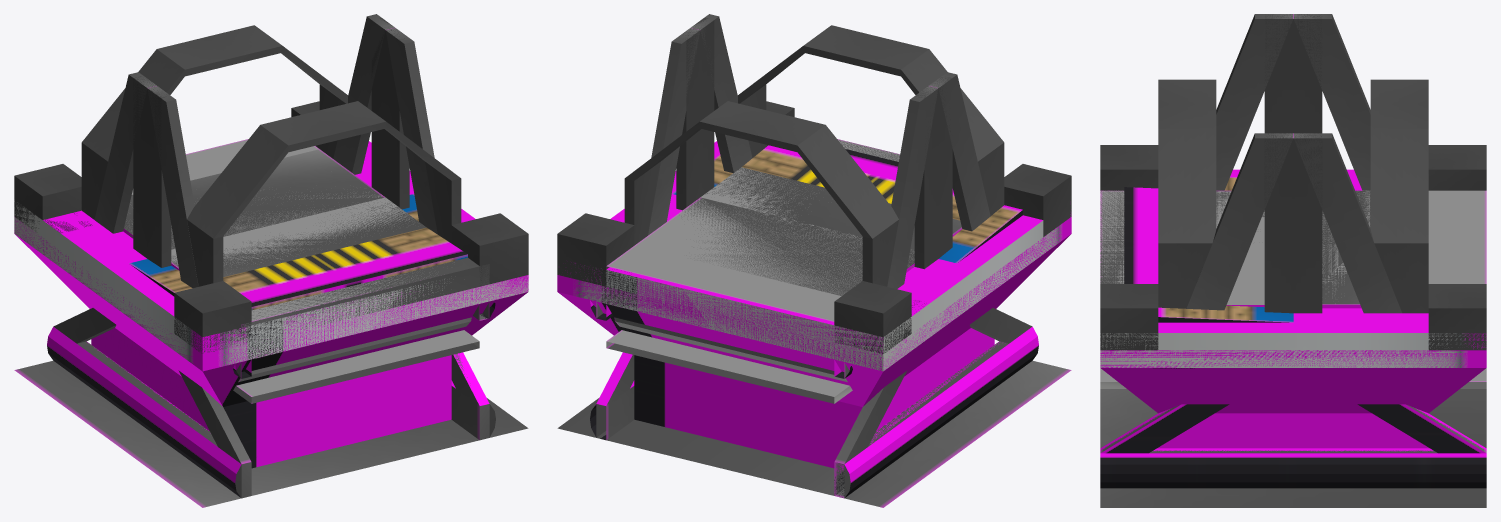
File: conveyor.obj
3 views of the same model, side by side, from view 1: azimuth 30°, elevation 25°; view 2: azimuth 150°, elevation 25°; view 3: azimuth 270°, elevation 25° (orthographic). The views are drawn at different scales.
Visible parts, largest first — view 1: ConveyorProcessingChute_chutemdl, Conveyor_High_Throughput_Framing_Alu_chtpmdl_alu, SieveChute_cscmdl, ConveyorHopperHighSpeed_chmdl_hs, ConveyorSupportAbove_Wood_samdl_wood, Reference_rplane, ConveyorStraightEnd_csmdl, ConveyorSupportAbove_Alu_samdl_alu, Sieve_csvmdl, Support_Alu_smdl_alu, ConveyorRoundBegin_crmdl, ConveyorRoundEnd_crmdl (+5 smaller); view 2: ConveyorProcessingChute_chutemdl, SieveChute_cscmdl, Conveyor_High_Throughput_Framing_Alu_chtpmdl_alu, ConveyorHopperHighSpeed_chmdl_hs, ConveyorStraightBegin_csmdl, ConveyorSupportAbove_Wood_samdl_wood, Reference_rplane, ConveyorRoundBegin_crmdl, ConveyorSupportAbove_Alu_samdl_alu, Support_Alu_smdl_alu, Support_Wood_smdl_wood, Sieve_csvmdl (+3 smaller); view 3: SieveChute_cscmdl, ConveyorSupportAbove_Wood_samdl_wood, Conveyor_High_Throughput_Framing_Alu_chtpmdl_alu, Support_Alu_smdl_alu, ConveyorSupportAbove_Alu_samdl_alu, ConveyorHopperHighSpeed_chmdl_hs, Reference_rplane, ConveyorStraightBegin_csmdl, Sieve_csvmdl, ConveyorStraightEnd_csmdl, ConveyorChute_cchmdl, Conveyor_End_Cap_Wood_cecmdl_wood (+2 smaller).
Part boxes in pixels (x1,y1,x2,y2): ConveyorProcessingChute_chutemdl: [43, 213, 527, 468]; Conveyor_High_Throughput_Framing_Alu_chtpmdl_alu: [81, 25, 461, 286]; SieveChute_cscmdl: [14, 101, 528, 431]; ConveyorHopperHighSpeed_chmdl_hs: [14, 141, 528, 371]; ConveyorSupportAbove_Wood_samdl_wood: [94, 14, 437, 287]; Reference_rplane: [14, 360, 528, 507]; ConveyorStraightEnd_csmdl: [171, 197, 479, 403]; ConveyorSupportAbove_Alu_samdl_alu: [133, 17, 409, 267]; Sieve_csvmdl: [129, 194, 467, 310]; Support_Alu_smdl_alu: [47, 327, 489, 497]; ConveyorRoundBegin_crmdl: [124, 149, 385, 249]; ConveyorRoundEnd_crmdl: [171, 201, 471, 382]; ConveyorProcessingChute_chutemdl: [557, 220, 1041, 468]; SieveChute_cscmdl: [557, 101, 1071, 431]; Conveyor_High_Throughput_Framing_Alu_chtpmdl_alu: [624, 25, 1004, 286]; ConveyorHopperHighSpeed_chmdl_hs: [557, 141, 1071, 371]; ConveyorStraightBegin_csmdl: [606, 197, 914, 403]; ConveyorSupportAbove_Wood_samdl_wood: [648, 14, 990, 288]; Reference_rplane: [557, 360, 1071, 507]; ConveyorRoundBegin_crmdl: [614, 197, 914, 382]; ConveyorSupportAbove_Alu_samdl_alu: [676, 17, 952, 269]; Support_Alu_smdl_alu: [590, 327, 1038, 497]; Support_Wood_smdl_wood: [596, 308, 1032, 498]; Sieve_csvmdl: [672, 145, 1022, 263]; SieveChute_cscmdl: [1100, 145, 1486, 448]; ConveyorSupportAbove_Wood_samdl_wood: [1186, 14, 1401, 313]; Conveyor_High_Throughput_Framing_Alu_chtpmdl_alu: [1158, 79, 1428, 313]; Support_Alu_smdl_alu: [1100, 404, 1486, 488]; ConveyorSupportAbove_Alu_samdl_alu: [1264, 14, 1322, 313]; ConveyorHopperHighSpeed_chmdl_hs: [1100, 169, 1486, 367]; Reference_rplane: [1100, 389, 1486, 507]; ConveyorStraightBegin_csmdl: [1322, 190, 1486, 388]; Sieve_csvmdl: [1124, 177, 1293, 322]; ConveyorStraightEnd_csmdl: [1100, 190, 1264, 388]; ConveyorChute_cchmdl: [1158, 170, 1428, 332]; Conveyor_End_Cap_Wood_cecmdl_wood: [1100, 190, 1124, 283].
Bounding box in the file's own units: 1 × 1 × 1.
